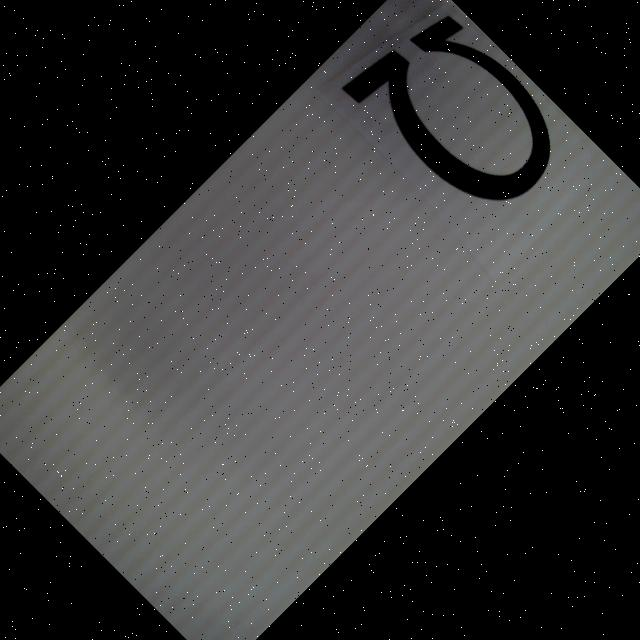OMEGA: (341, 0, 578, 232)
